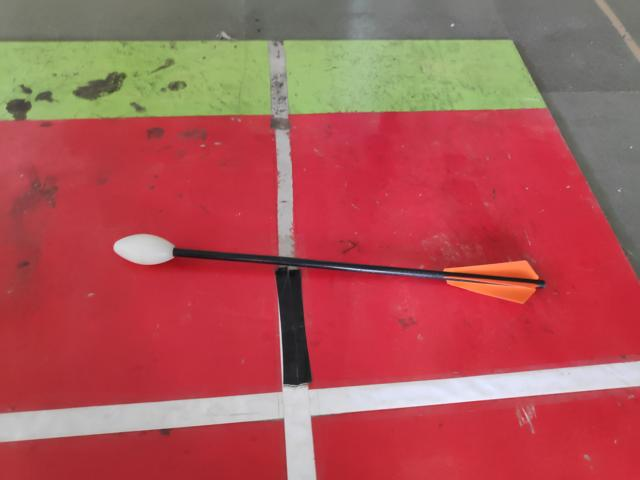Head: (109, 231, 177, 267)
Tail: (442, 254, 547, 310)
